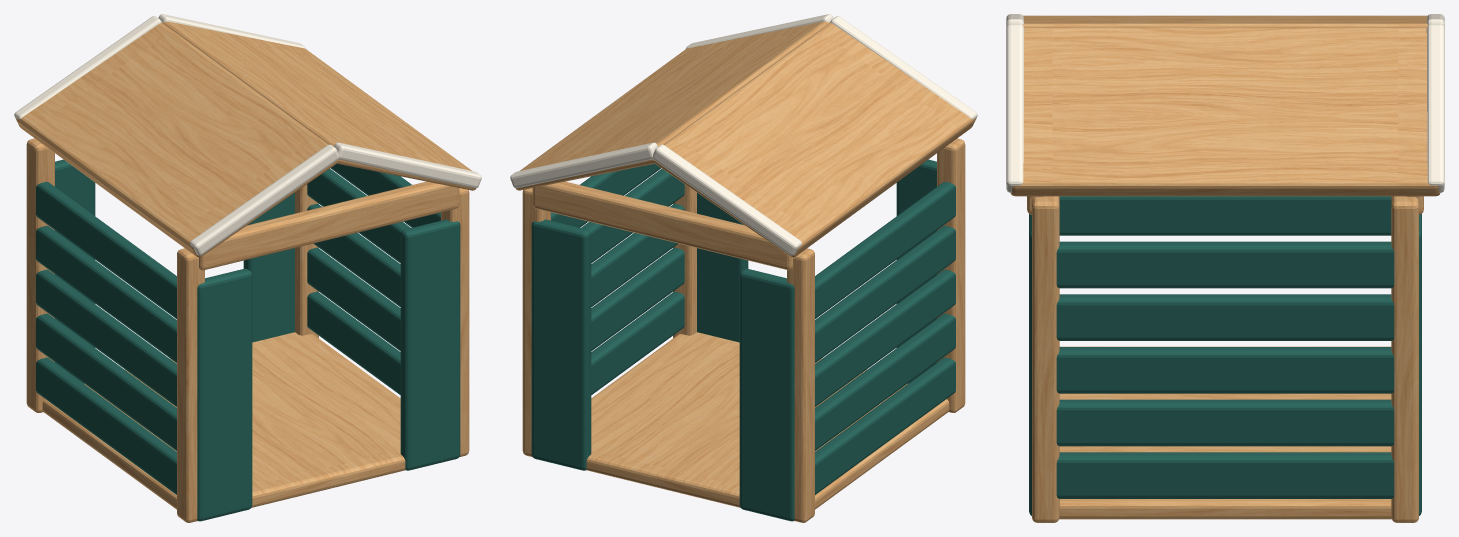
File: playhouse_frame.glb
The picture shows the model from 3 angles, left to right: view 1: azimuth 30°, elevation 25°; view 2: azimuth 150°, elevation 25°; view 3: azimuth 270°, elevation 25°; orthographic projection. The views are drawn at different scales.
Visible parts, largest first — view 1: playhouse_frame; view 2: playhouse_frame; view 3: playhouse_frame.
Part boxes in pixels (<box>): playhouse_frame: <box>14,14,481,522</box>; playhouse_frame: <box>510,14,977,522</box>; playhouse_frame: <box>1006,14,1444,522</box>.
Size of the model in its own units: 1.44 by 1.67 by 1.59.
Materials: 3 (1 with a texture image).
